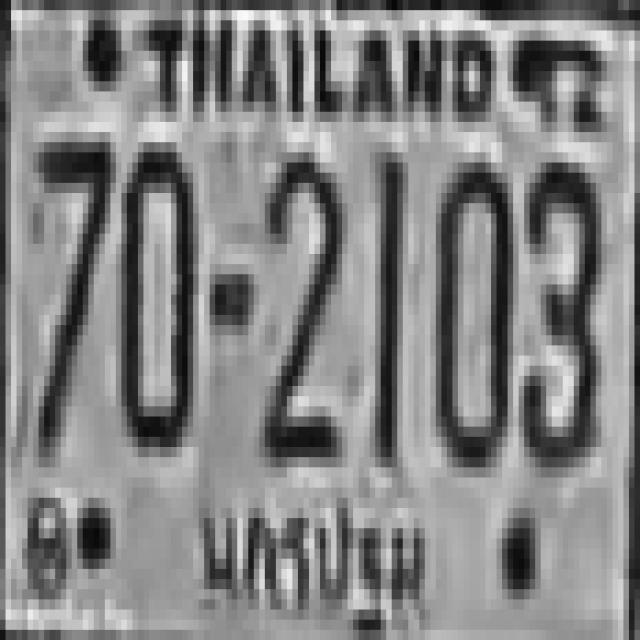0: (116, 132, 193, 447), (430, 152, 508, 458)
1: (370, 152, 397, 458)
2: (262, 147, 339, 452)
3: (518, 152, 596, 458)
7: (33, 132, 110, 447)
NakhonPathom: (189, 488, 436, 640)
